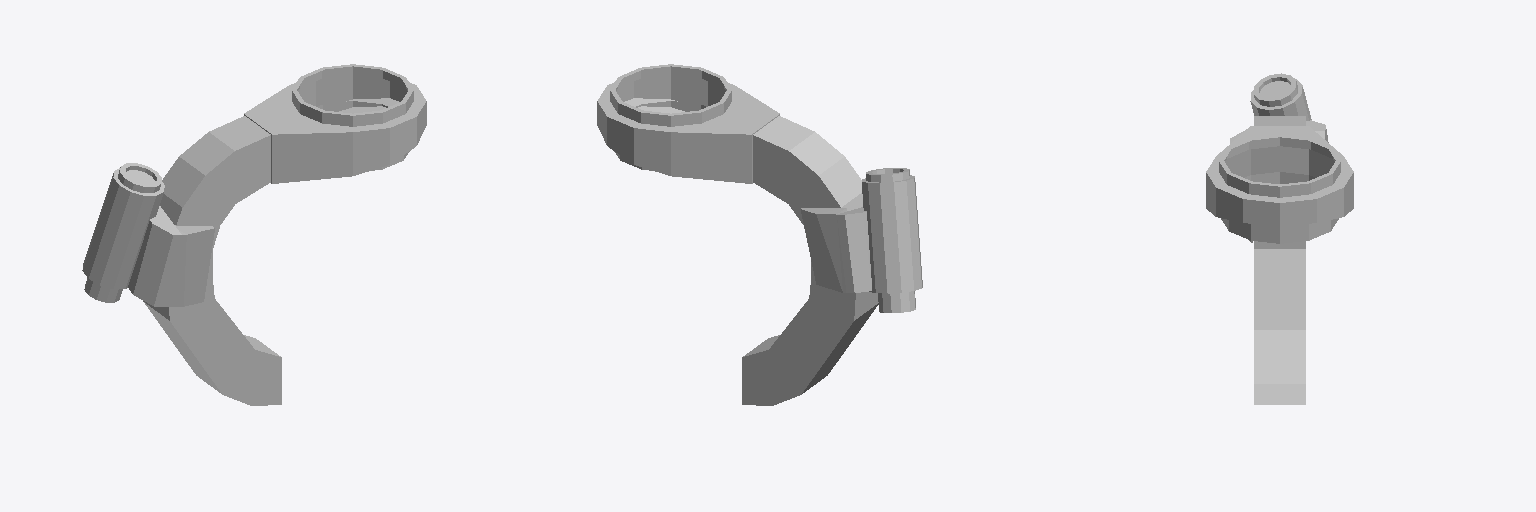
Rendered from suspension.obj.
3 views of the same model, side by side, from view 1: azimuth 30°, elevation 25°; view 2: azimuth 150°, elevation 25°; view 3: azimuth 270°, elevation 25° (orthographic).
Visible parts, largest first — view 1: suspension_steer_F_L_Cylinder.014; view 2: suspension_steer_F_L_Cylinder.014; view 3: suspension_steer_F_L_Cylinder.014.
Boxes of the visible parts, x1,y1,x2,y2 form: suspension_steer_F_L_Cylinder.014: [82, 64, 426, 405]; suspension_steer_F_L_Cylinder.014: [597, 64, 922, 405]; suspension_steer_F_L_Cylinder.014: [1206, 73, 1353, 404].
Bounding box in the file's own units: 0.5284 × 0.4469 × 0.2102.